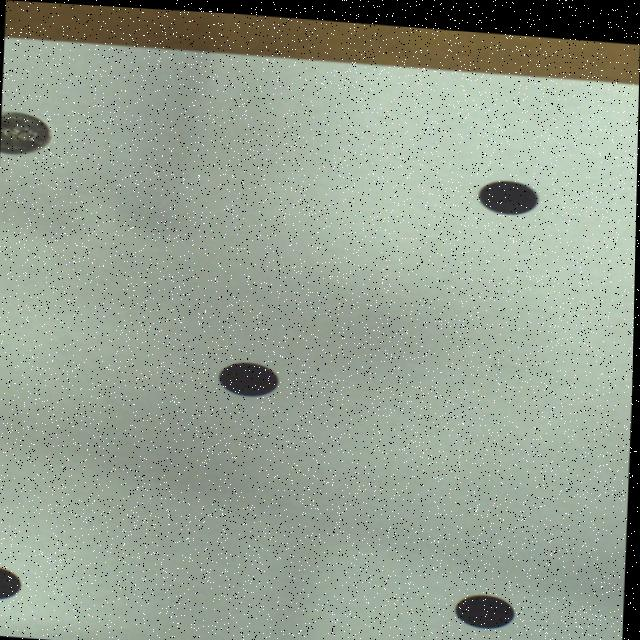space: (479, 173, 537, 207), (457, 588, 515, 621), (220, 358, 278, 391), (0, 566, 24, 598)
tail1bath: (0, 111, 51, 153)
